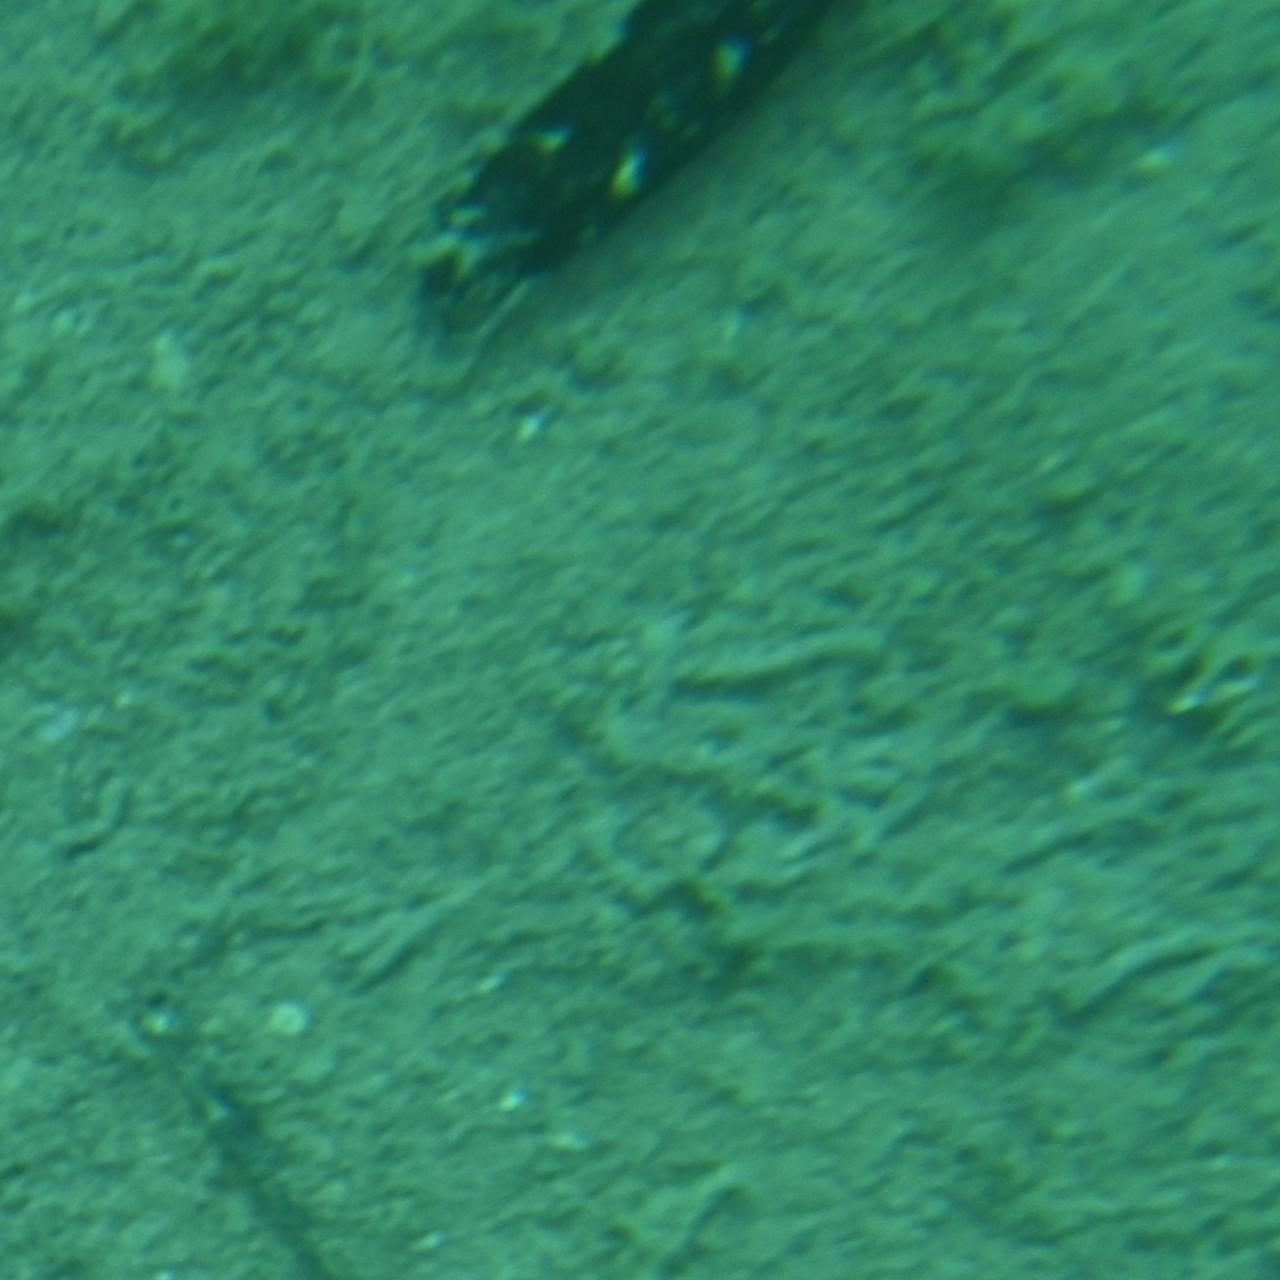Holothuria tubulosa: (418, 0, 862, 402)
